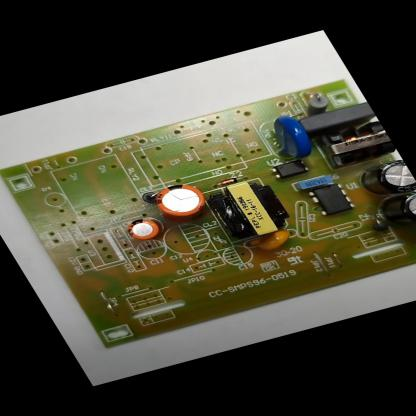Cap1: (144, 179, 212, 222)
Cap2: (121, 216, 164, 243)
Cap3: (357, 158, 416, 201)
Cap4: (380, 190, 416, 232)
MOSFET: (304, 180, 358, 218)
Mov: (258, 112, 320, 164)
Resistor: (296, 92, 335, 116)
Transformer: (206, 175, 298, 242), (315, 118, 397, 168)
